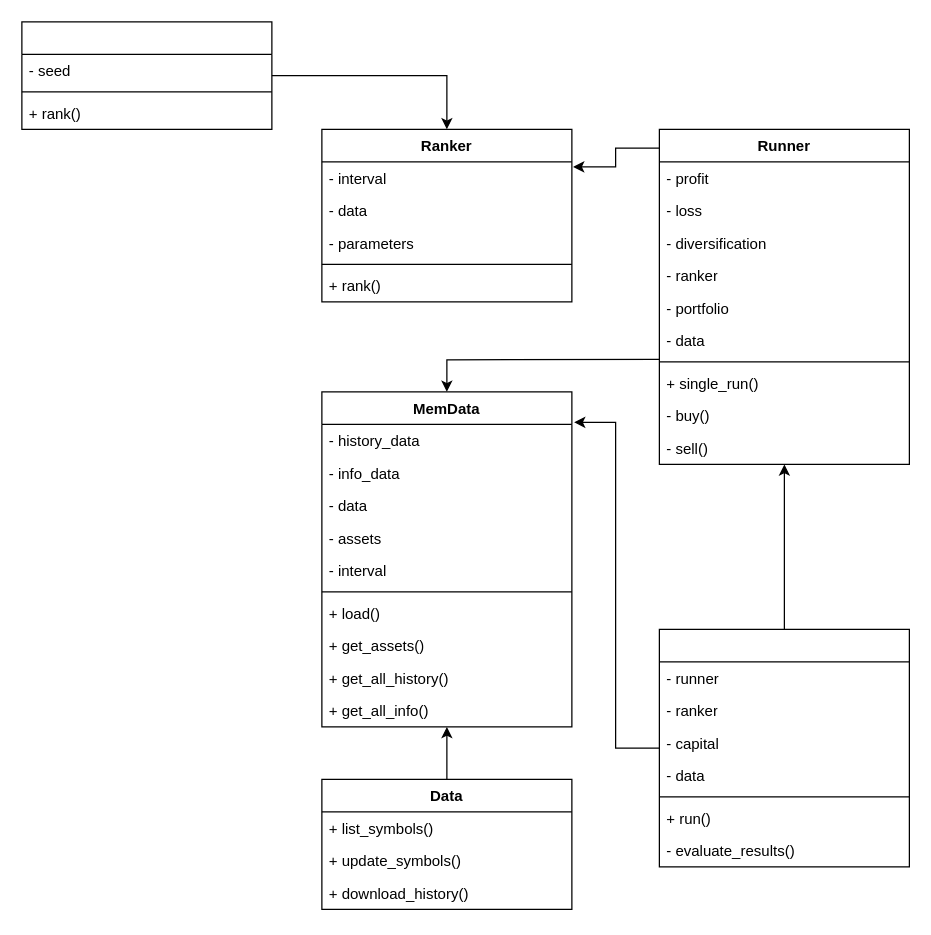
Some shapes in this 931 by 935 pixel diagram are drawn without their labels. Here are the shapes that lost their labels. From the top down, the box of each, then its label:
(21, 21, 272, 129): RandomRanker
(658, 628, 909, 867): Backtesting
